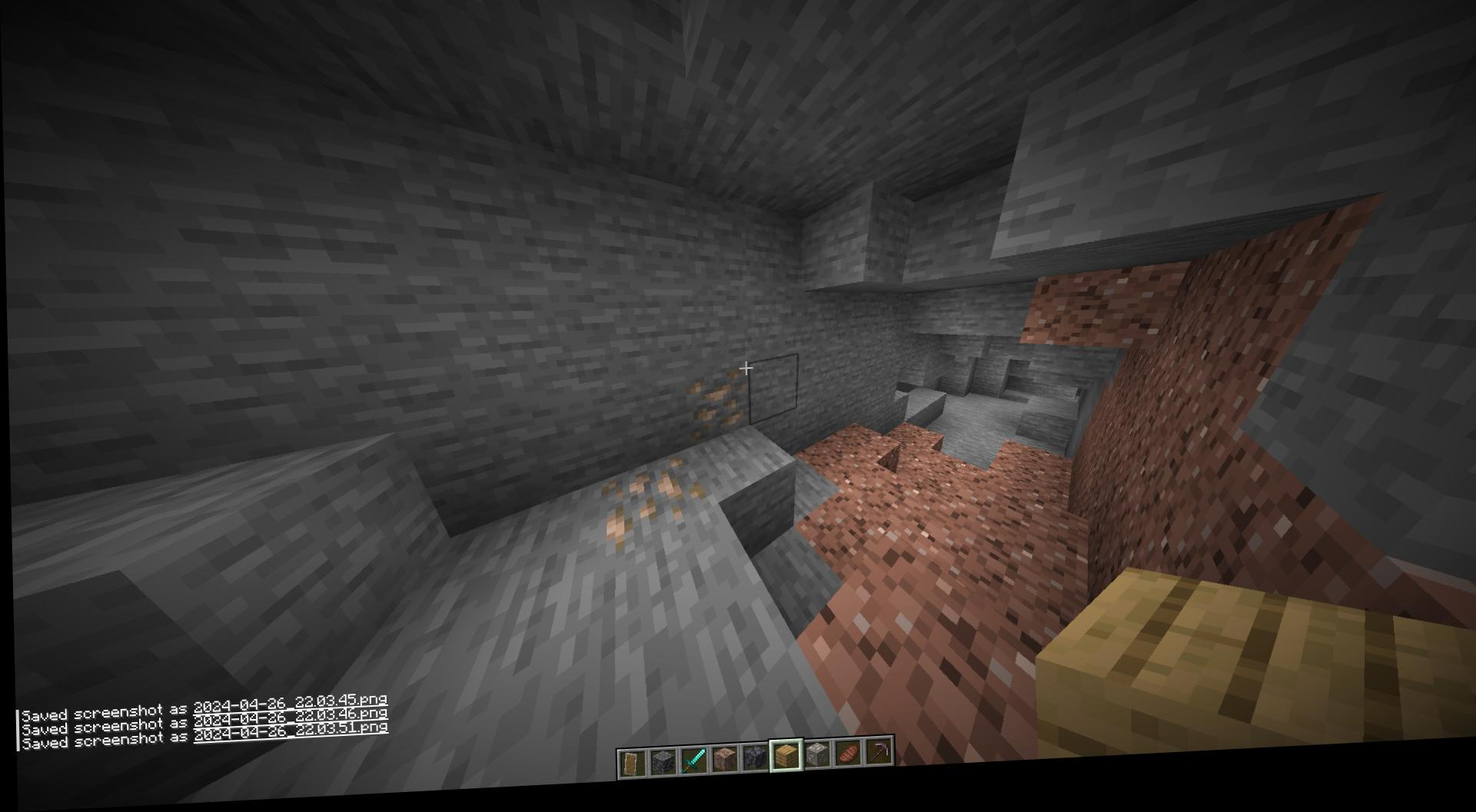iron ore: (599, 461, 701, 553), (685, 377, 760, 451)
